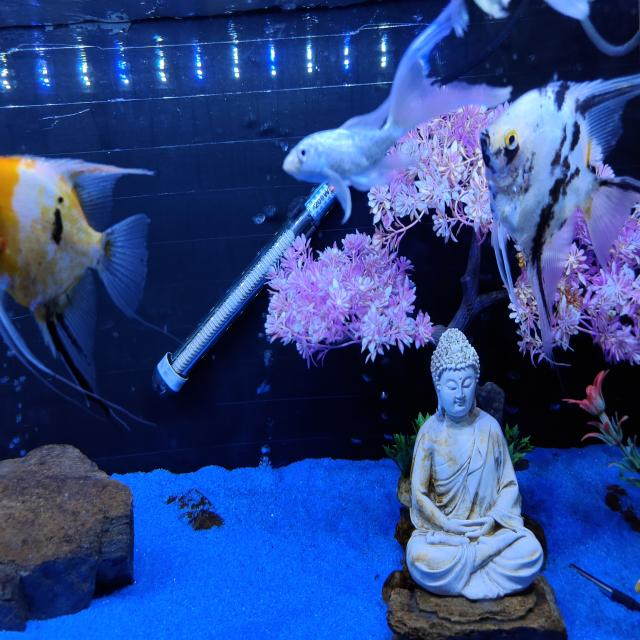Fish: (283, 0, 510, 222), (480, 75, 639, 361), (0, 157, 152, 422), (546, 0, 589, 20)
